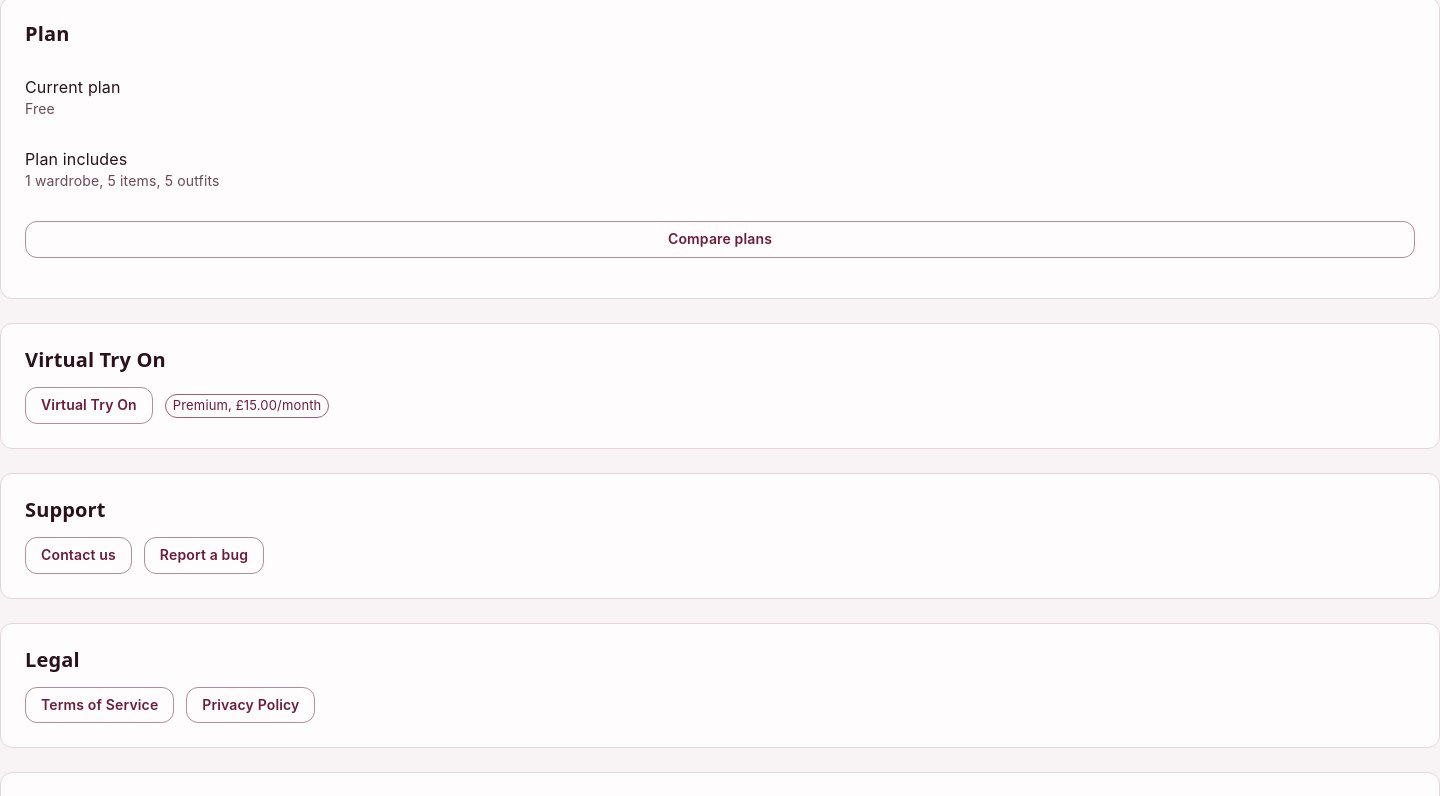
it: SettingsPage › links Virtual Try On to the existing page and keeps Premium gating
(page scrolled)
Expected: the text "Free" is shown, [25,100,55,118]
Expected: the button "Upgrade to Premium" is not shown
Click the link with aria-label "Open Virtual Try On". click: point(89, 406)
box: [25,387,153,424]
(page scrolled)
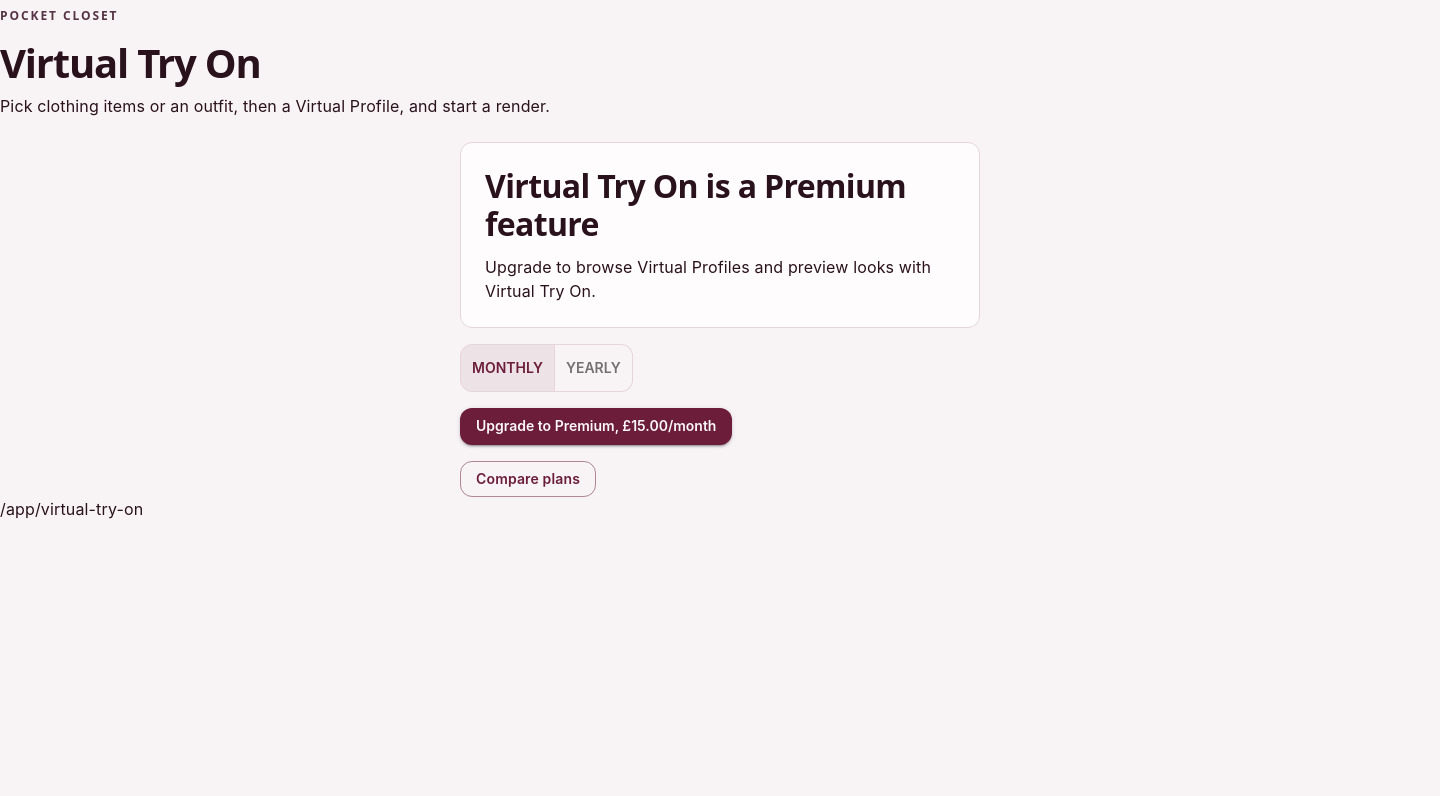
Result: the heading "Virtual Try On is a Premium feature" is shown at [485,167,955,244]
Result: the element named "Billing interval" is shown at [460,344,633,392]
